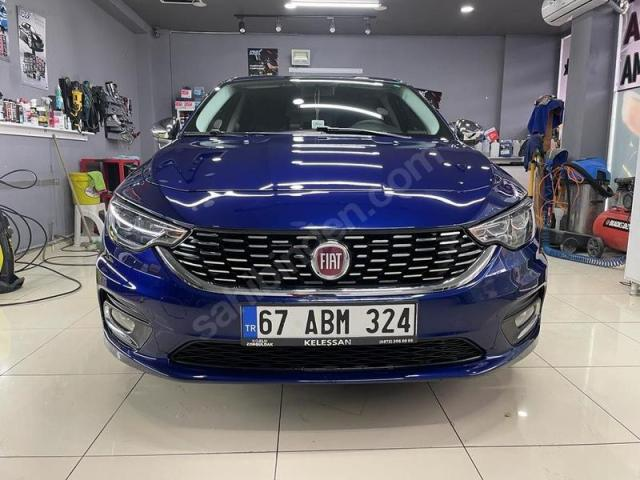plaka: (242, 303, 414, 339)
